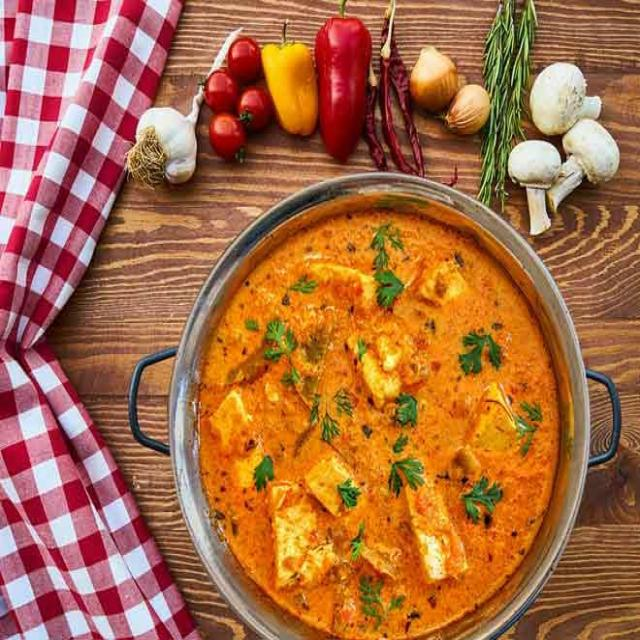ShahiPaneer: (201, 213, 558, 640)
